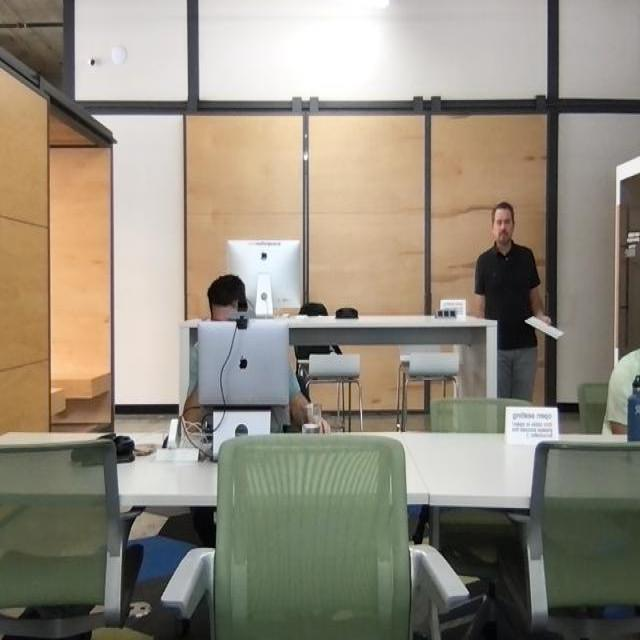face: (210, 283, 245, 320), (492, 201, 516, 251)
